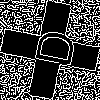D: (25, 25, 77, 69)
